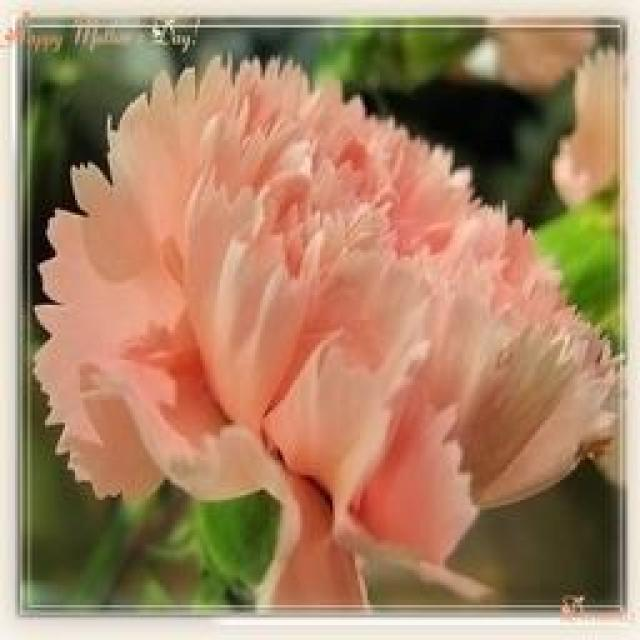carnation: (27, 71, 609, 555)
